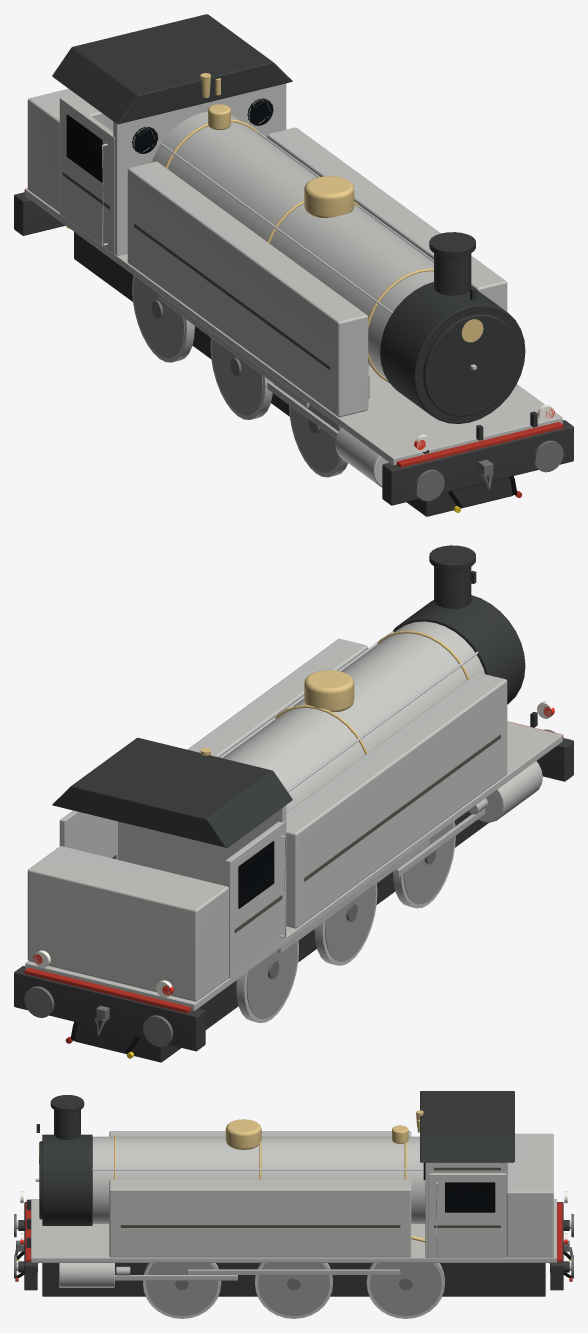
Rendered from rail.train.steam_tank.glb.
The picture shows the model from 3 angles, top to bottom: view 1: azimuth 30°, elevation 25°; view 2: azimuth 150°, elevation 25°; view 3: azimuth 270°, elevation 25°; orthographic projection. The views are drawn at different scales.
Visible parts, largest first — view 1: main__paint_ccc, main__paint_333, main__steel_444, main__galv_999, main__galv_dc8, main__glass_dark, main__galv_777, main__galv_bbb, main__galv_ccc, main__paint_b32, main__paint_555, main__rubber; view 2: main__paint_ccc, main__paint_333, main__steel_444, main__galv_999, main__galv_dc8, main__galv_777, main__galv_bbb, main__paint_b32, main__galv_ccc, main__paint_555, main__glass_dark, main__rubber; view 3: main__paint_ccc, main__paint_333, main__galv_999, main__galv_bbb, main__galv_dc8, main__steel_444, main__paint_555, main__galv_ccc, main__glass_dark, main__galv_777, main__rubber, main__paint_b32.
Boxes of the visible parts, x1,y1,x2,y2 form: main__paint_ccc: (25,83,562,487); main__paint_333: (52,14,537,516); main__steel_444: (14,192,573,505); main__galv_999: (133,277,340,473); main__galv_dc8: (165,73,483,382); main__glass_dark: (67,98,273,177); main__galv_777: (151,300,563,501); main__galv_bbb: (158,293,341,438); main__galv_ccc: (102,123,476,369); main__paint_b32: (24,188,563,497); main__paint_555: (62,171,330,370); main__rubber: (66,114,517,507); main__paint_ccc: (25,621,562,1022); main__paint_333: (52,545,537,1062); main__steel_444: (14,738,573,1051); main__galv_999: (246,822,454,1018); main__galv_dc8: (200,630,469,755); main__galv_777: (24,729,554,1046); main__galv_bbb: (278,798,487,953); main__paint_b32: (24,721,563,1043); main__galv_ccc: (220,631,478,937); main__paint_555: (111,734,500,933); main__glass_dark: (241,846,273,903); main__rubber: (70,841,274,1053); main__paint_ccc: (31,1131,556,1318); main__paint_333: (26,1091,545,1296); main__galv_999: (146,1263,441,1316); main__galv_bbb: (115,1266,400,1280); main__galv_dc8: (39,1110,425,1242); main__steel_444: (18,1202,569,1290); main__paint_555: (120,1167,500,1227); main__galv_ccc: (16,1168,571,1270); main__glass_dark: (423,1162,492,1210); main__galv_777: (14,1214,573,1290); main__rubber: (16,1182,571,1277); main__paint_b32: (15,1203,572,1281).
Size of the model in its own units: 2.7 by 3.9 by 10.01.
